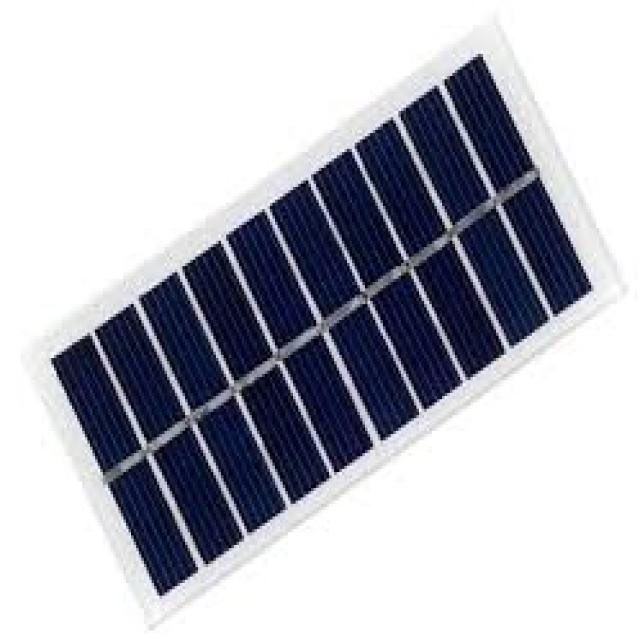no faulty: (48, 52, 589, 597)
